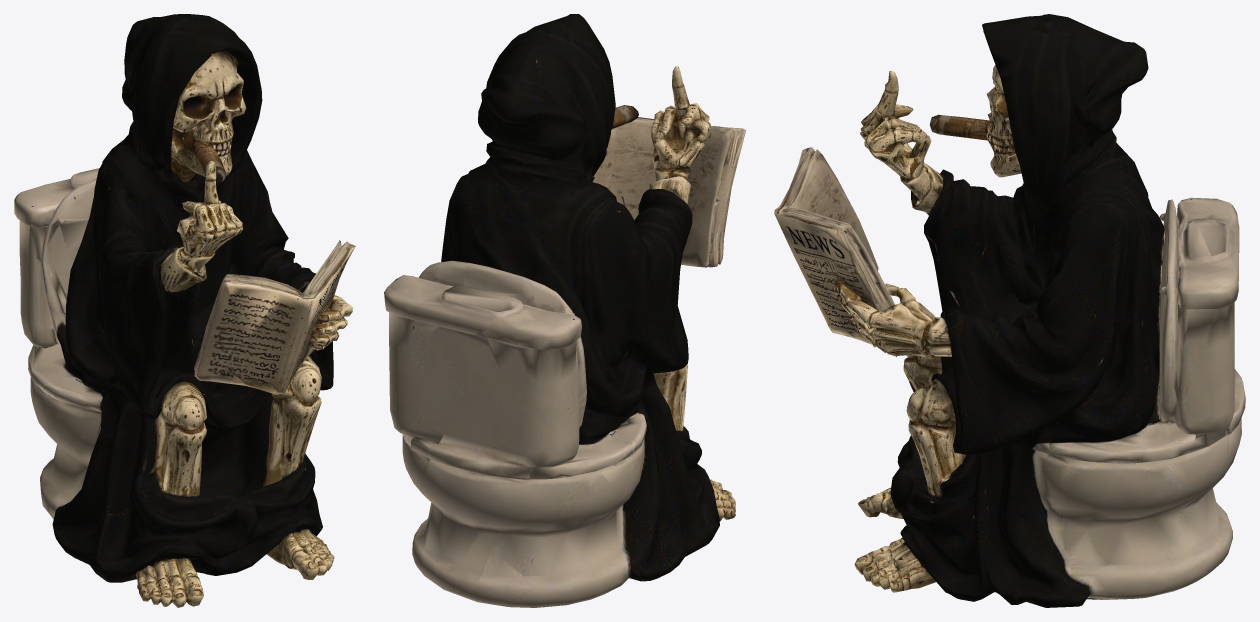
Rendered from char10_reaper_toilet.glb.
3 views of the same model, side by side, from view 1: azimuth 30°, elevation 25°; view 2: azimuth 150°, elevation 25°; view 3: azimuth 270°, elevation 25° (orthographic). The views are drawn at different scales.
Size of the model in its own units: 0.9113 by 1.9 by 1.5.
Materials: 1 (1 with a texture image).
